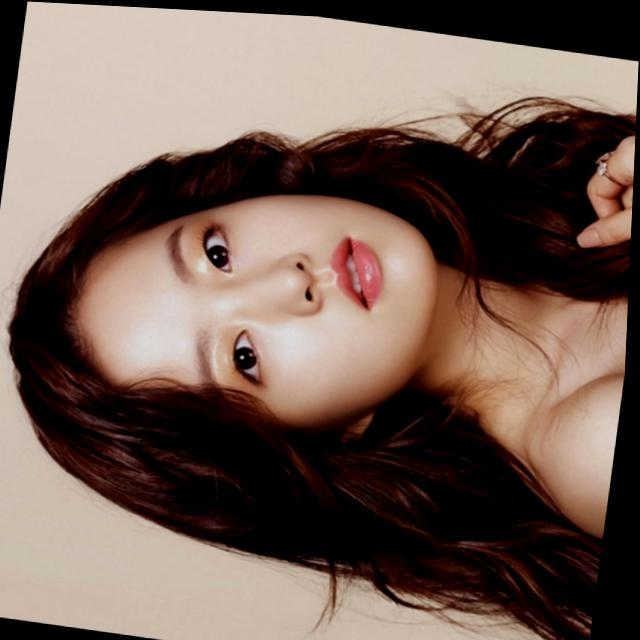face: (23, 21, 191, 119)
